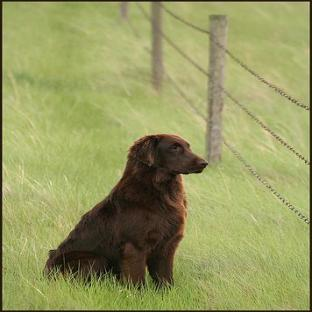Animal: (45, 134, 207, 285)
